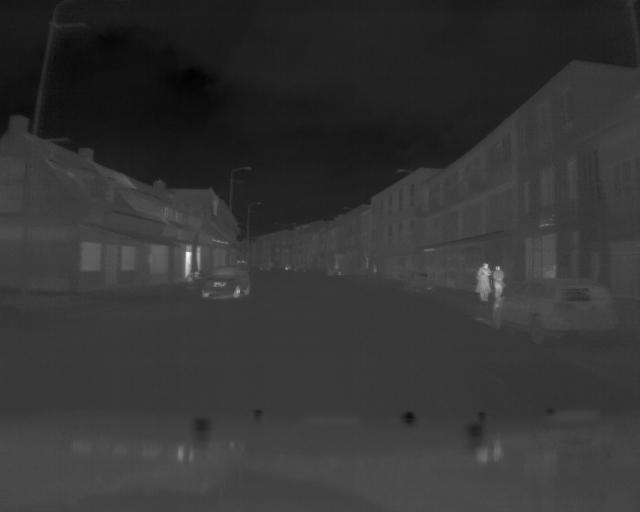car: (504, 271, 626, 344), (196, 256, 258, 303)
person: (478, 258, 496, 301), (496, 266, 504, 300)
